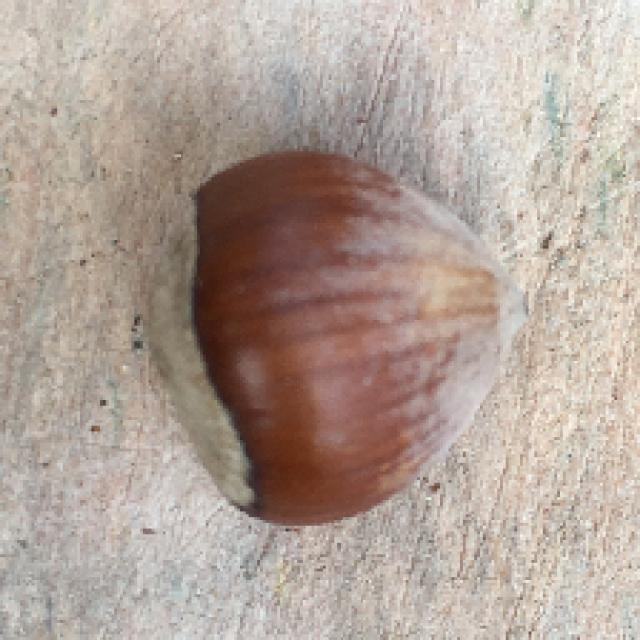QualityHazelnut: (137, 143, 530, 530)
